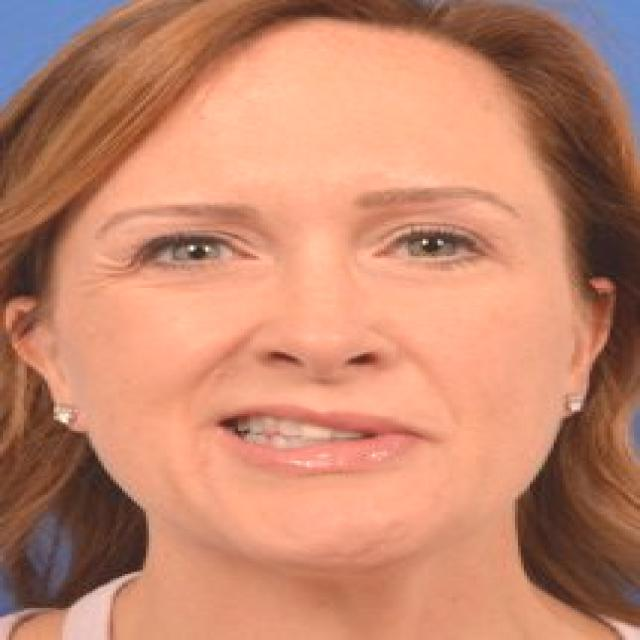stroke_face: (80, 65, 604, 558)
